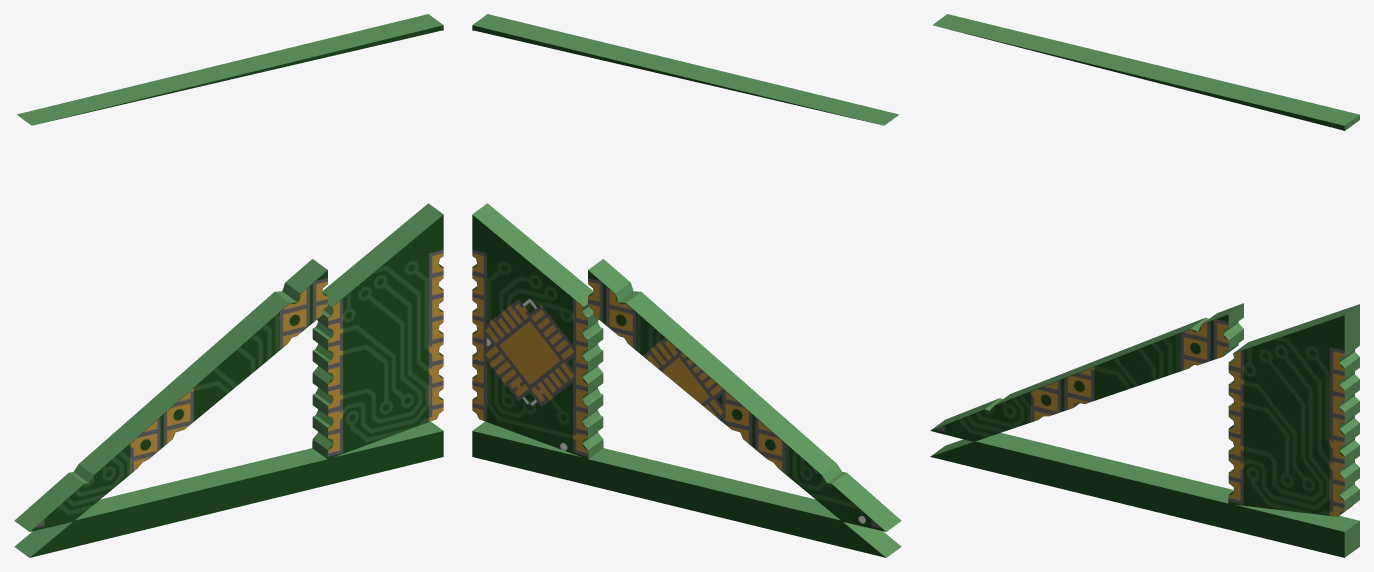
Rendered from badgy.glb.
3 views of the same model, side by side, from view 1: azimuth 30°, elevation 25°; view 2: azimuth 150°, elevation 25°; view 3: azimuth 330°, elevation 25° (orthographic).
Parts seen in each view (by area): view 1: faces, edges; view 2: faces, edges; view 3: faces, edges.
Boxes of the visible parts, bbox=[...] form: faces: bbox=[30, 25, 443, 557]; edges: bbox=[14, 14, 443, 557]; faces: bbox=[472, 25, 885, 557]; edges: bbox=[472, 14, 901, 557]; faces: bbox=[930, 27, 1344, 557]; edges: bbox=[930, 14, 1359, 557].
Bounding box in the file's own units: 0.025 × 0.0249 × 0.0016.
Materials: 2 (1 with a texture image).
